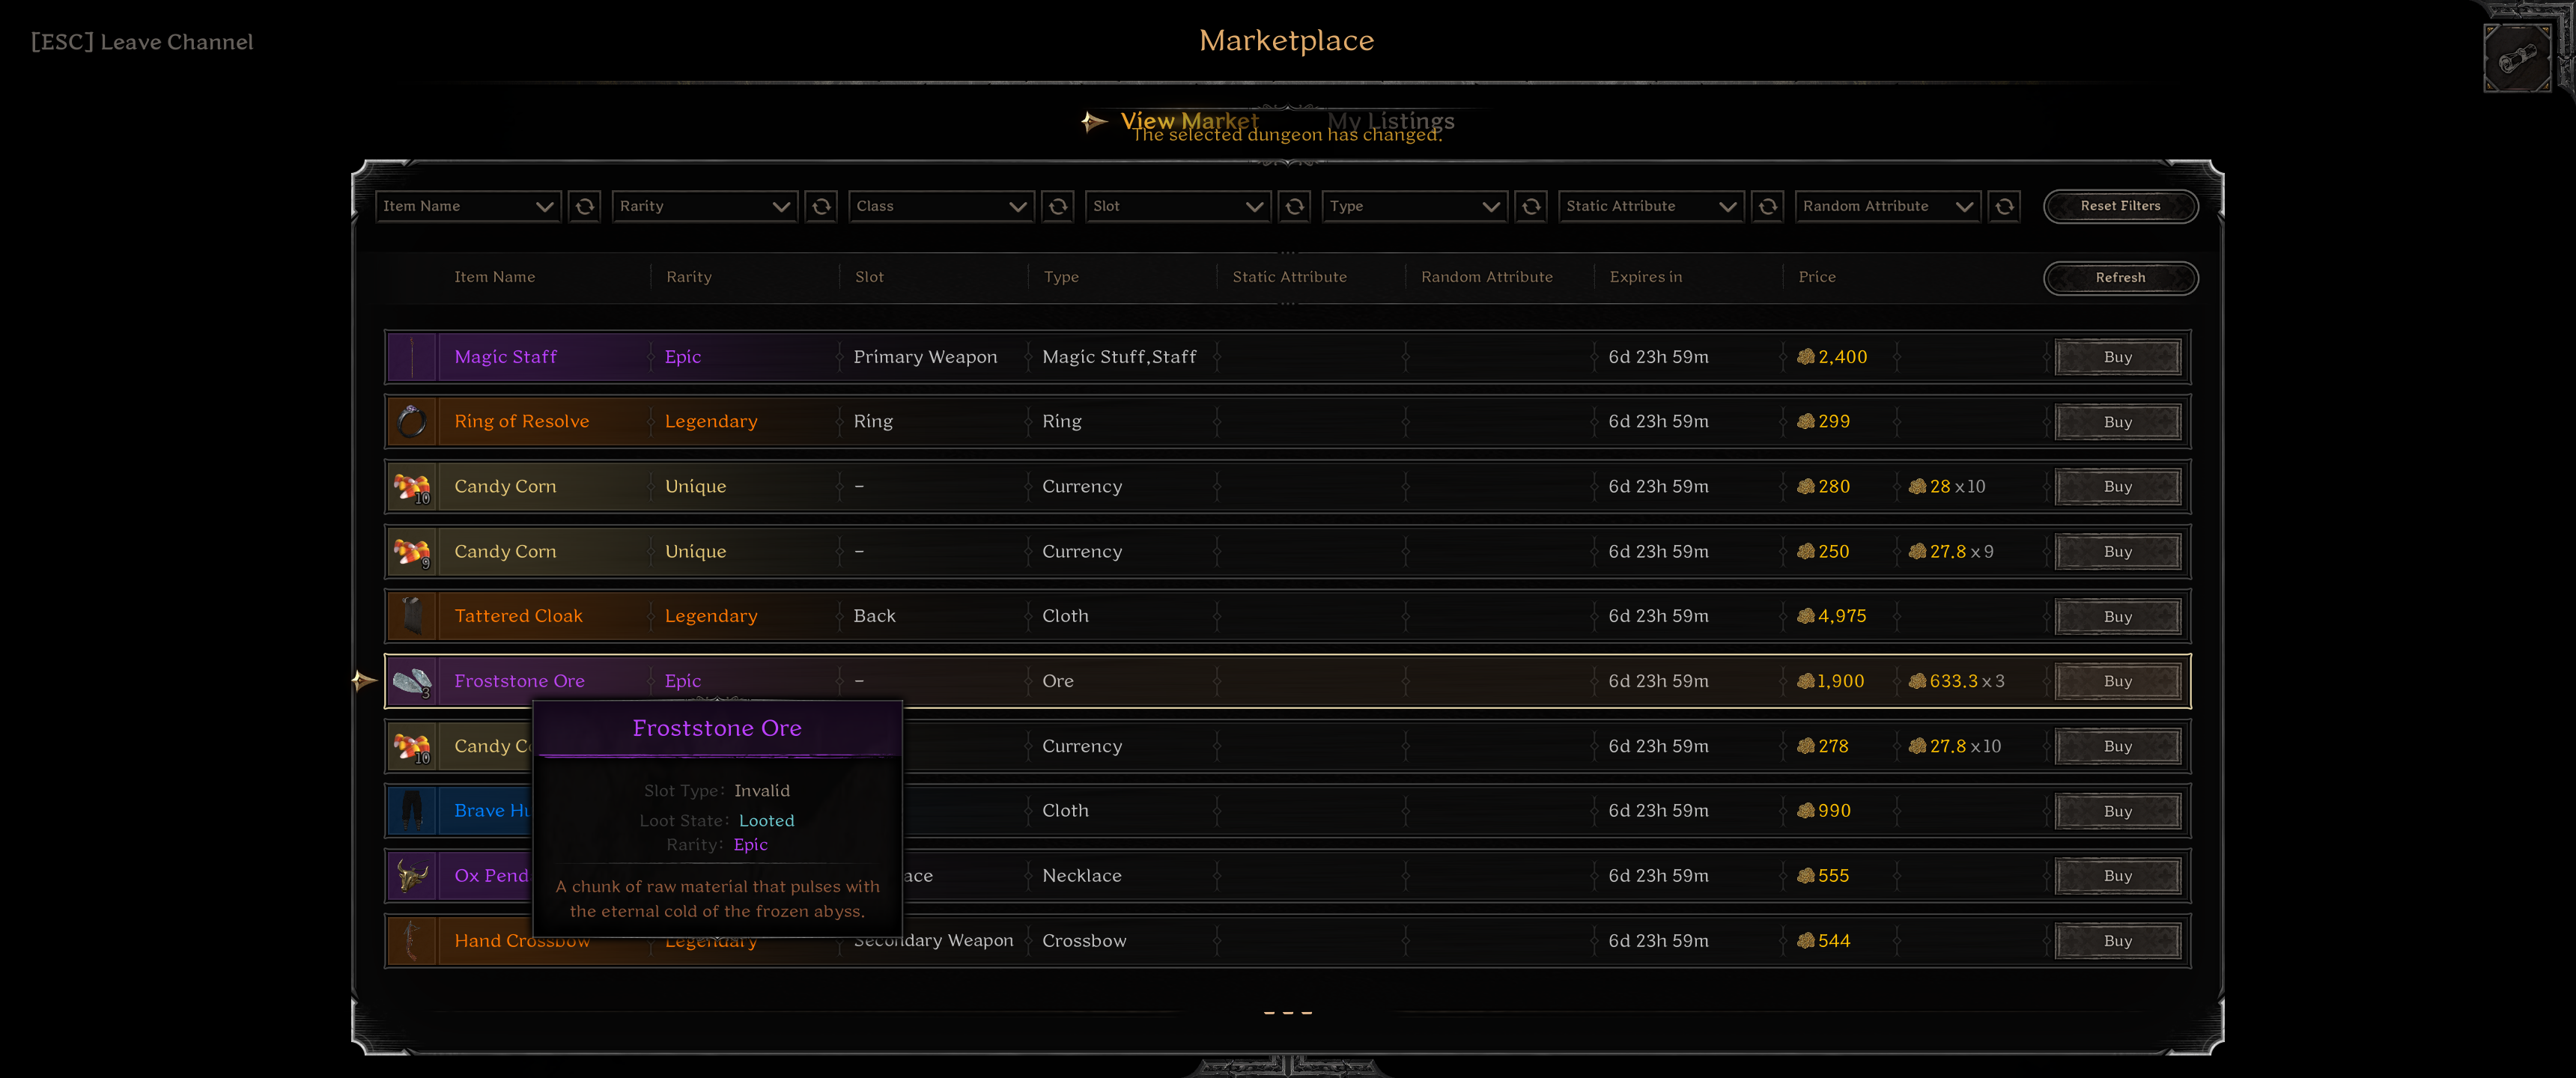Tooltip: (531, 698, 905, 940)
